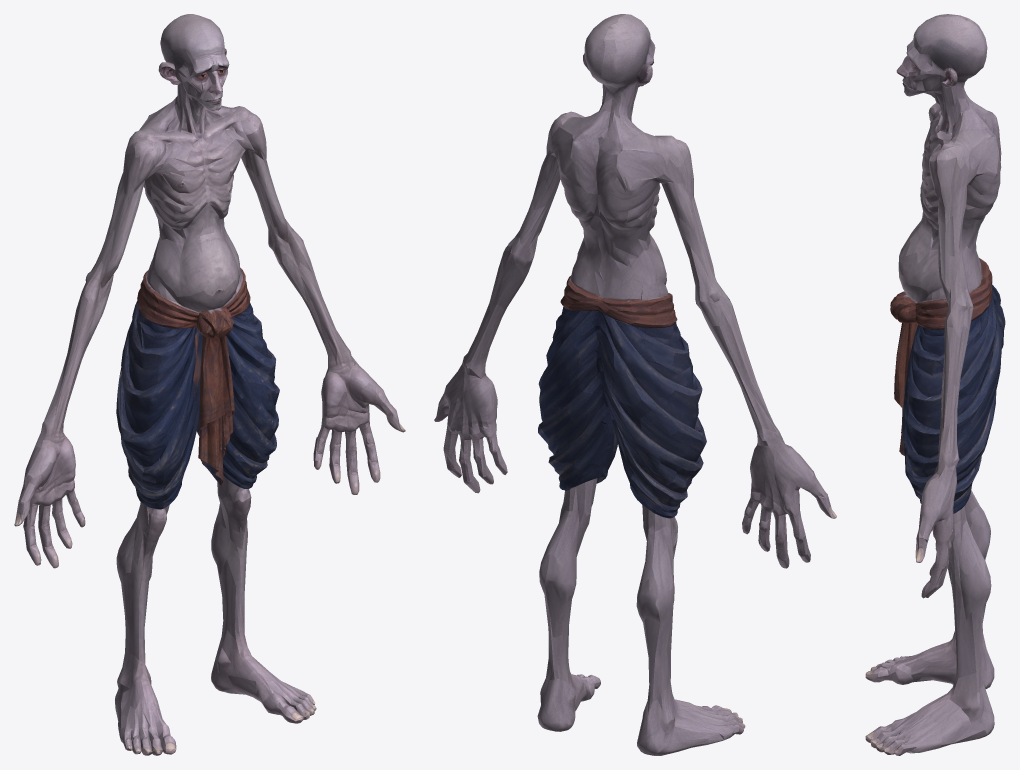
Rendered from pret.glb.
The picture shows the model from 3 angles, left to right: view 1: azimuth 30°, elevation 25°; view 2: azimuth 150°, elevation 25°; view 3: azimuth 270°, elevation 25°; orthographic projection. The views are drawn at different scales.
Bounding box in the file's own units: 1.12 × 1.9 × 0.3468.
Materials: 1 (1 with a texture image).
